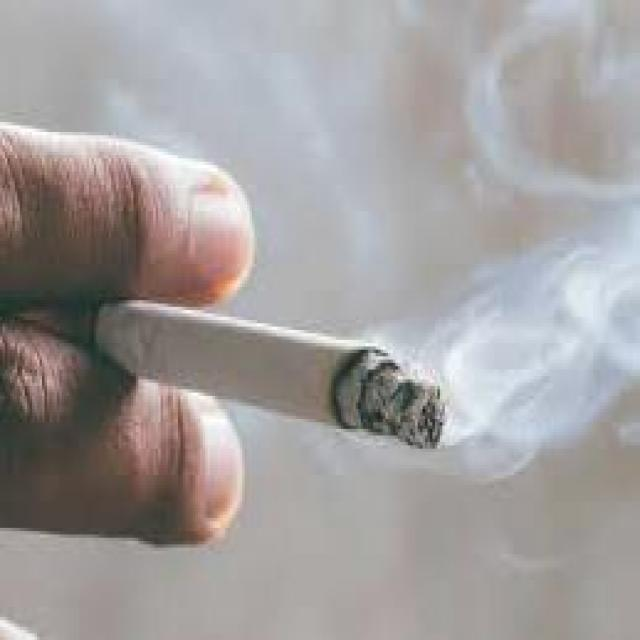smoke: (10, 267, 455, 459)
